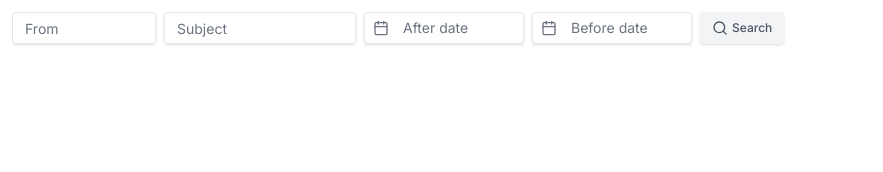
Scenario: FilterBar › shows Clear button only when filters are active
Expected: the button "clear" is not shown
Type "alice" into the field named "filter by sender" at (84, 28), box [12,12,156,44]
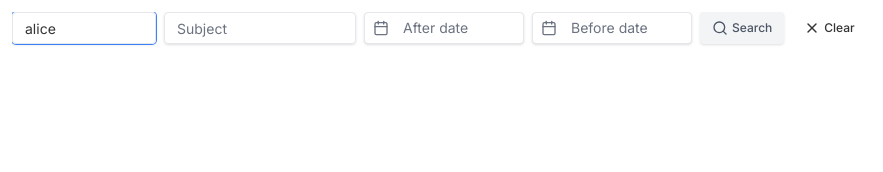
Expected: the button "Clear" is shown, [792,12,867,44]
